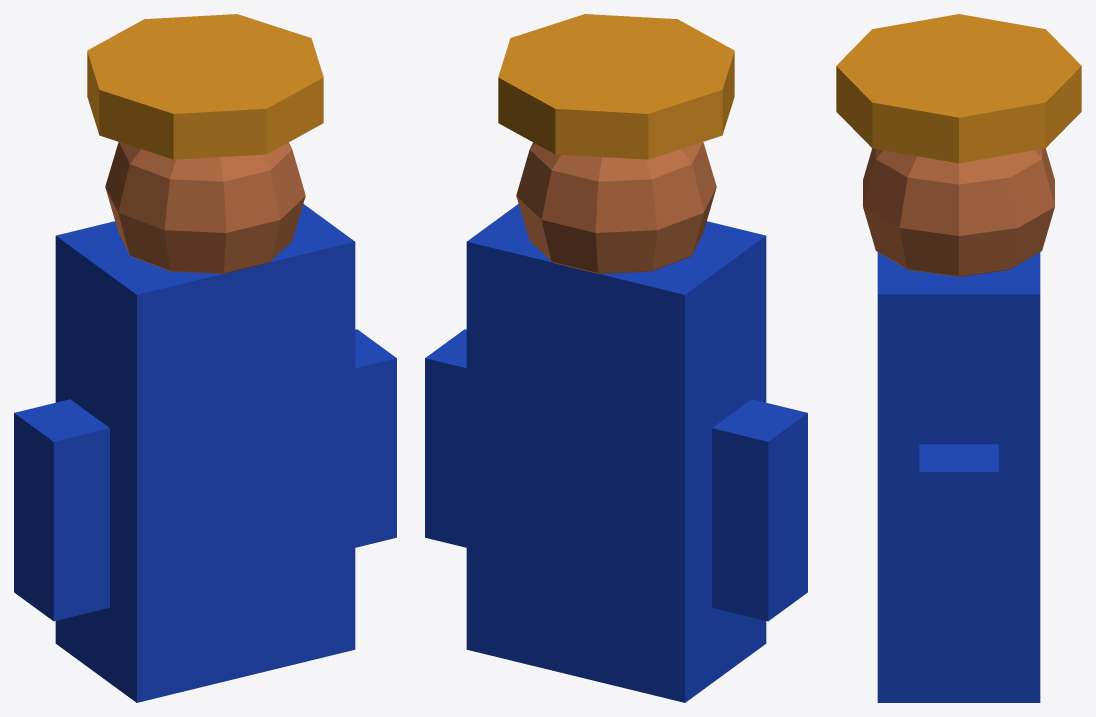
Rendered from npc_creator_v1.obj.
3 views of the same model, side by side, from view 1: azimuth 30°, elevation 25°; view 2: azimuth 150°, elevation 25°; view 3: azimuth 270°, elevation 25° (orthographic).
Visible parts, largest first — view 1: npc_creator_v1; view 2: npc_creator_v1; view 3: npc_creator_v1.
Part boxes in pixels (x1,y1,x2,y2): npc_creator_v1: (14,14,396,702); npc_creator_v1: (425,14,807,702); npc_creator_v1: (836,14,1081,702).
Bounding box in the file's own units: 1.1 × 1.78 × 0.68.
